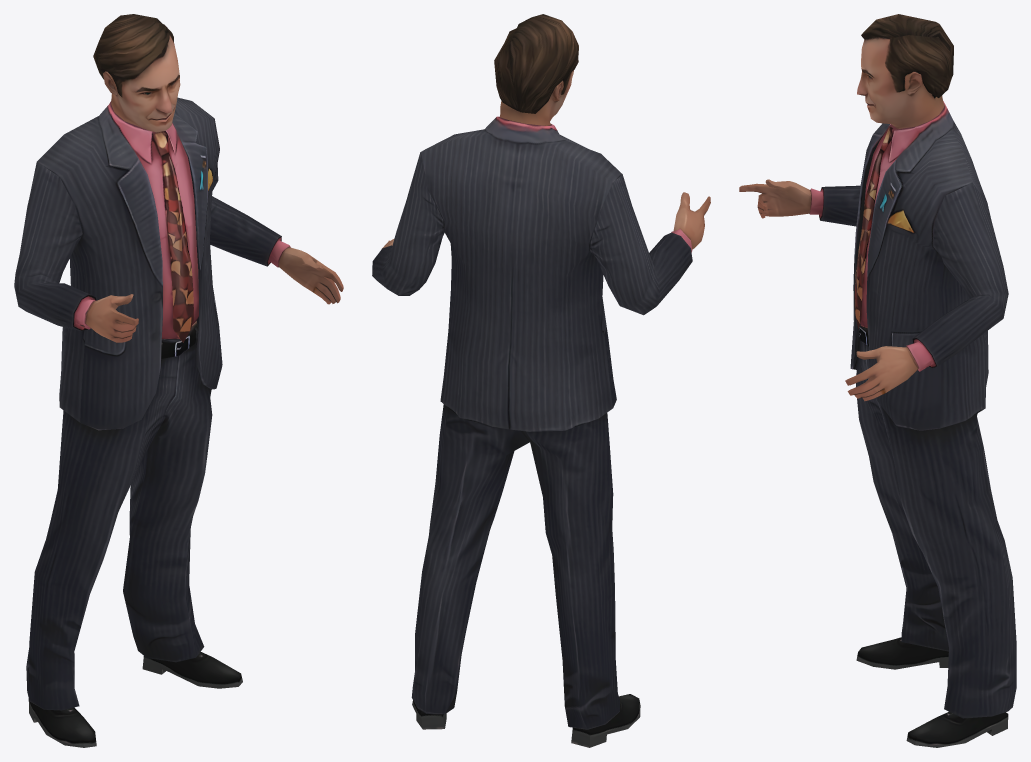
File: saul_goodman.glb
The picture shows the model from 3 angles, left to right: view 1: azimuth 30°, elevation 25°; view 2: azimuth 150°, elevation 25°; view 3: azimuth 270°, elevation 25°; orthographic projection. The views are drawn at different scales.
Visible parts, largest first — view 1: Object_2; view 2: Object_2; view 3: Object_2.
Part boxes in pixels (x1,y1,x2,y2): Object_2: (14, 14, 343, 747); Object_2: (372, 14, 710, 747); Object_2: (739, 14, 1016, 747).
Bounding box in the file's own units: 0.8277 × 1.85 × 0.683.
1 material, 1 textured.
